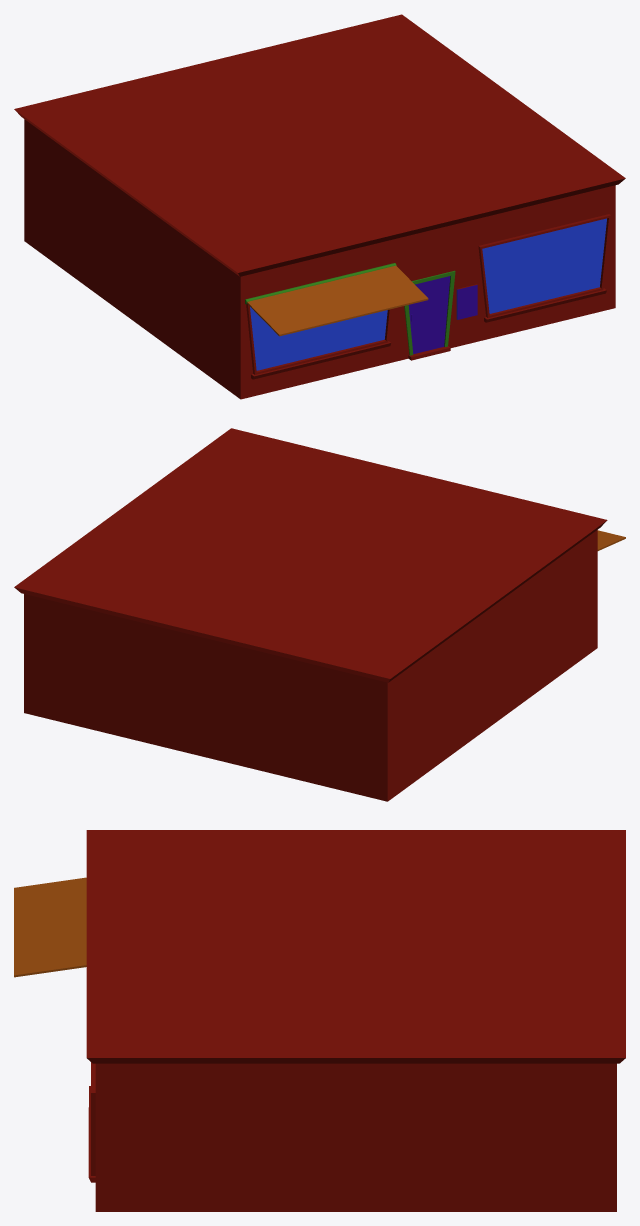
Rendered from SM_Base_Building_4m_01.fbx.
3 renders of one model, top to bottom at view 1: azimuth 30°, elevation 25°; view 2: azimuth 150°, elevation 25°; view 3: azimuth 270°, elevation 25°, orthographic. The views are drawn at different scales.
Visible parts, largest first — view 1: Base_4m_03; view 2: Base_4m_03; view 3: Base_4m_03.
Boxes of the visible parts, x1,y1,x2,y2 form: Base_4m_03: [14, 14, 625, 399]; Base_4m_03: [14, 428, 625, 801]; Base_4m_03: [14, 830, 625, 1211].
Size of the model in its own units: 12.41 by 4 by 14.08.
